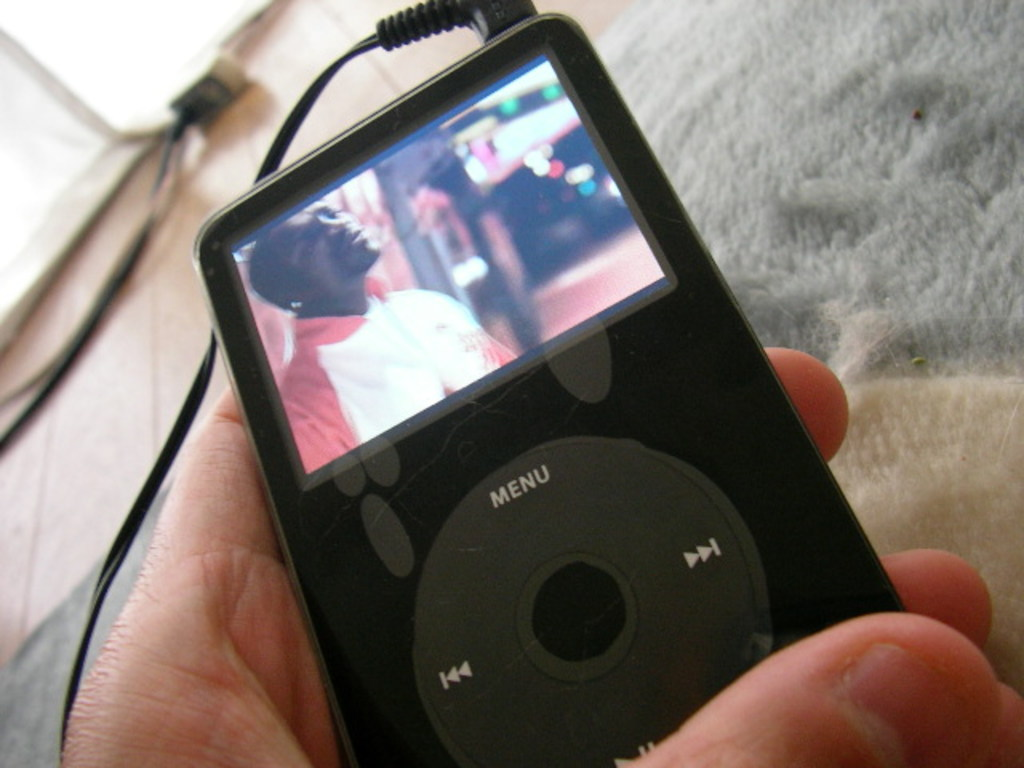Human_hand: (62, 349, 1024, 768)
